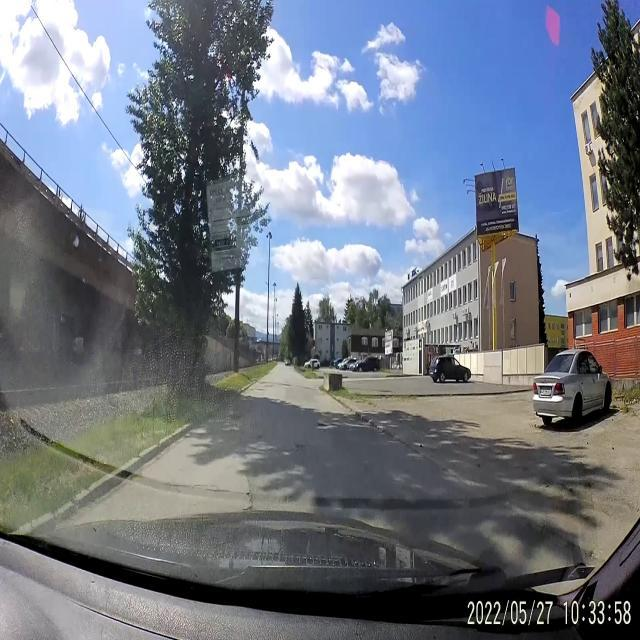Pothole: (242, 488, 256, 511), (315, 418, 328, 431)
